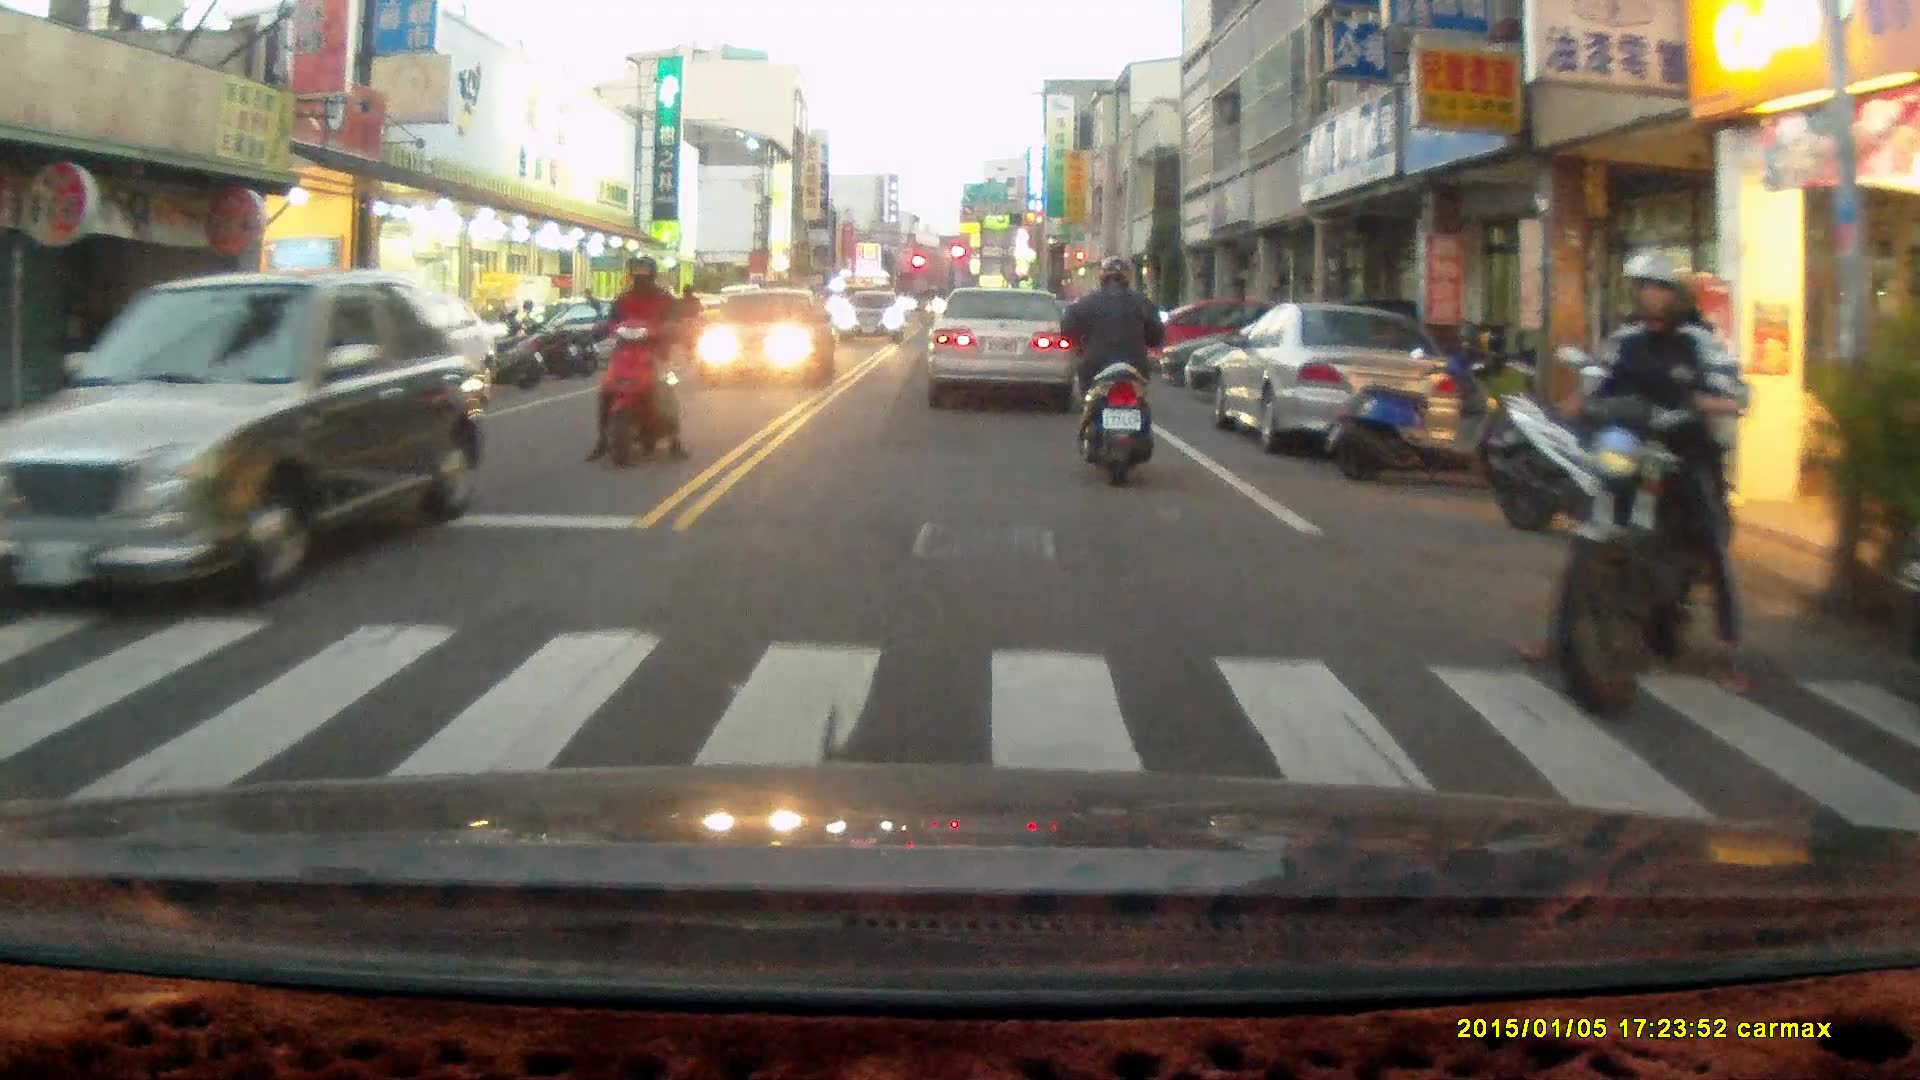pedestrian: (673, 282, 702, 357)
rider: (1533, 248, 1767, 719), (1063, 252, 1173, 484), (584, 251, 688, 471)
vehicle: (6, 268, 485, 617), (248, 276, 493, 441), (1216, 304, 1462, 459), (928, 287, 1082, 392), (694, 284, 836, 385), (833, 290, 910, 347)
